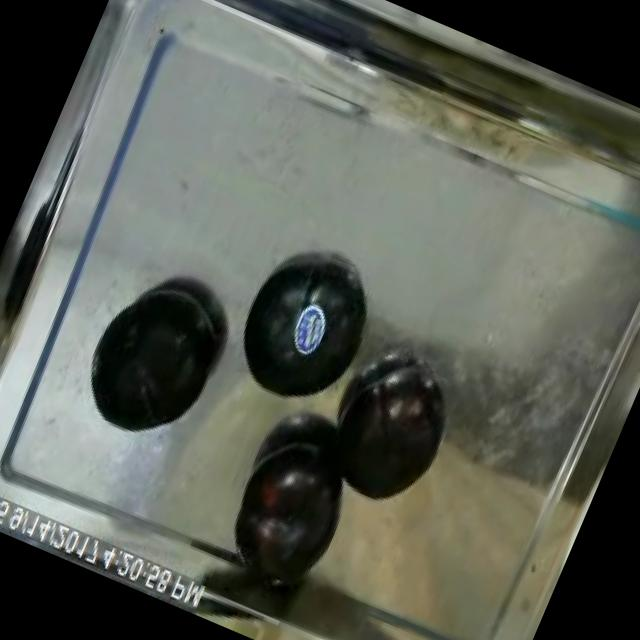Fruit: (273, 388, 576, 640), (64, 258, 248, 463), (312, 347, 473, 530), (271, 286, 347, 374)
